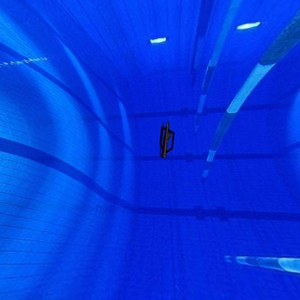submarine: (157, 116, 179, 163)
